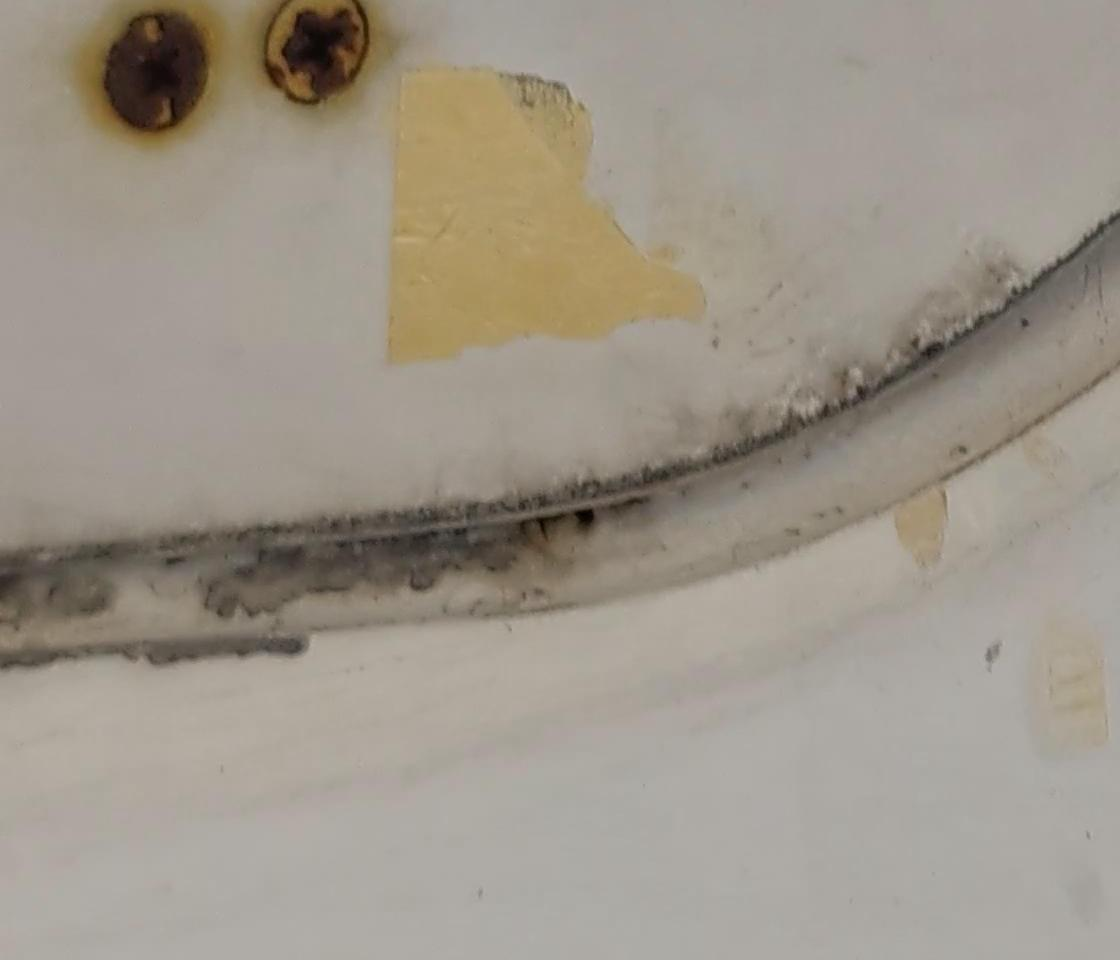rivet_damage: (90, 2, 216, 136), (262, 1, 379, 106)
